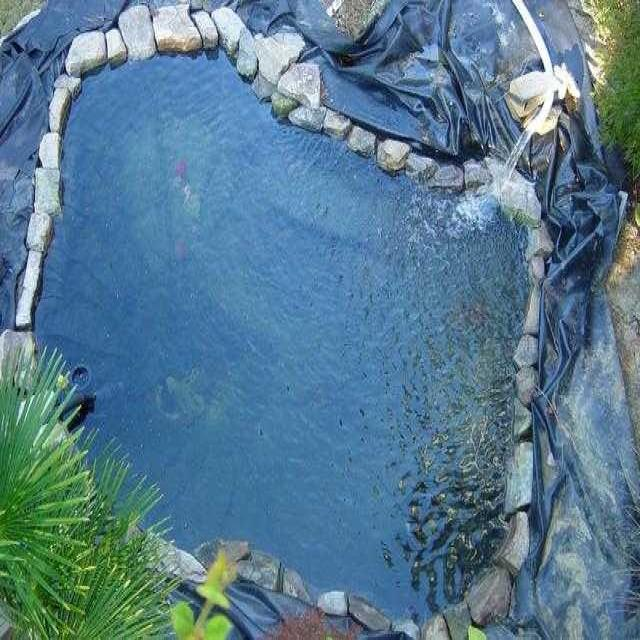Ponds: (5, 7, 557, 640)
